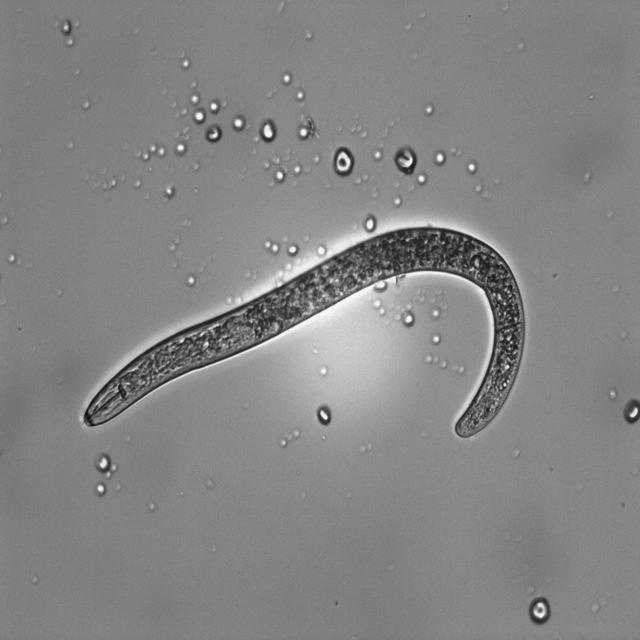Helicotylenchus: (79, 221, 540, 442)
